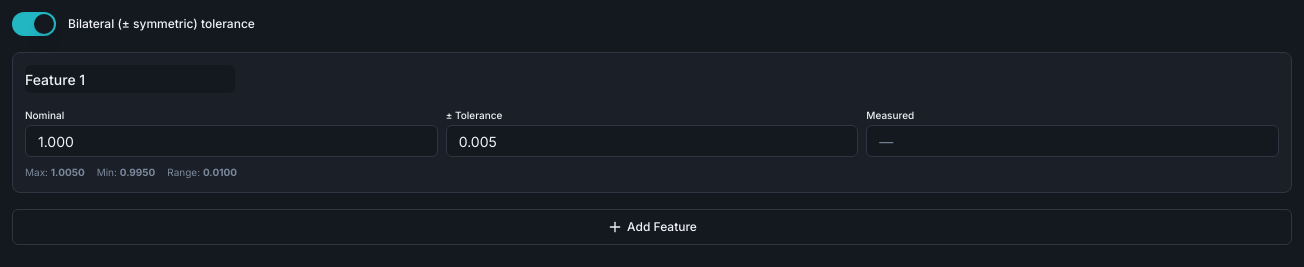
ToleranceCalculator › computes default min/max/range correctly and flags pass/fail
The width and height of the screenshot is (1304, 267).
Expected: the text "1.0050" is shown, [51,166,85,178]
Expected: the text "0.9950" is shown, [120,166,155,178]
Type "1.0000" into the number field labelled "Measured". click: (1073, 141)
box: [866,125,1279,157]
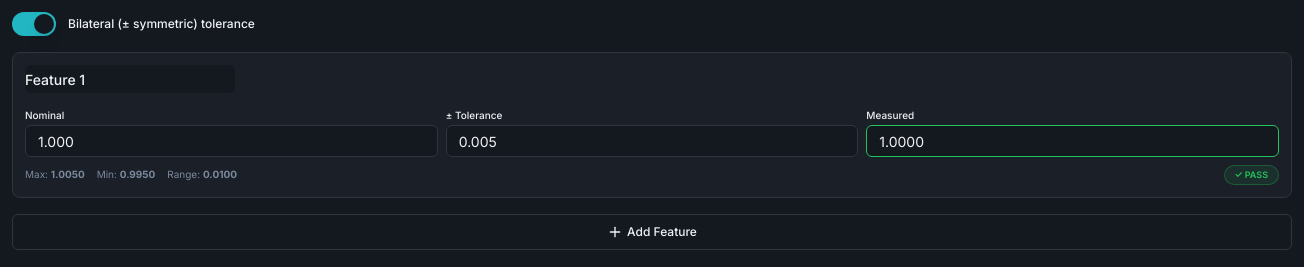
Expected: the text "✓ PASS" is shown, [1224,165,1279,184]
Replace the text in the number field labelled "Measured" with "1.0100". click: (1073, 141)
box: [866,125,1279,157]
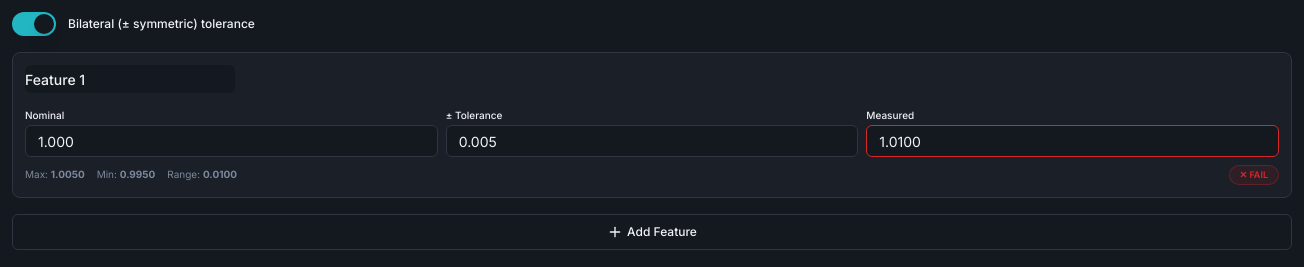
Expected: the text "✕ FAIL" is shown, [1229,165,1279,184]
